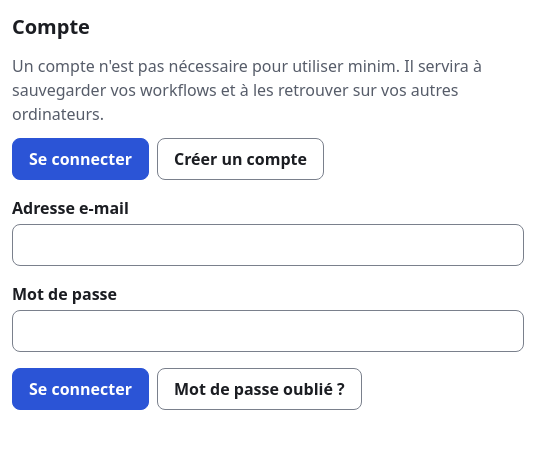
Test: AccountPanel › shows a translated error and keeps the form
The width and height of the screenshot is (544, 464).
Type "alice@example.com" into the field labelled "Adresse e-mail".
click(268, 245); type("alice@example.com")  # box left=12, top=224, right=524, bottom=266
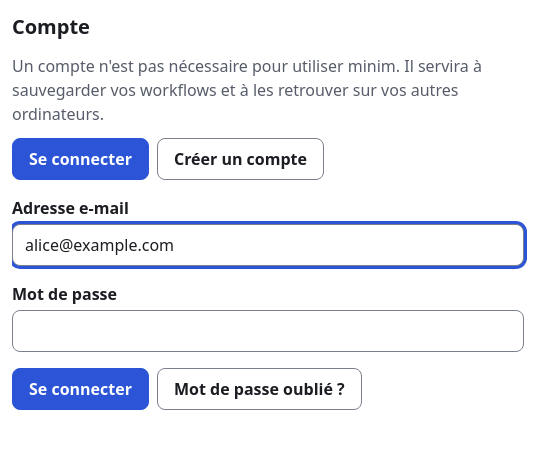
Type "faux" into the password field labelled "Mot de passe".
click(268, 331); type("faux")  # box left=12, top=310, right=524, bottom=352
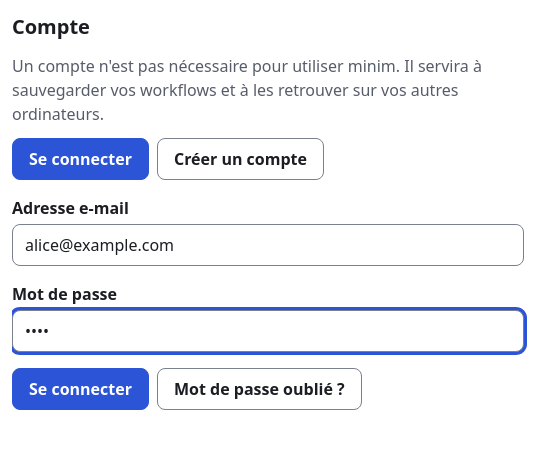
Click the button "Se connecter" below "Adresse e-mail".
click(80, 389)  # box left=12, top=368, right=149, bottom=410
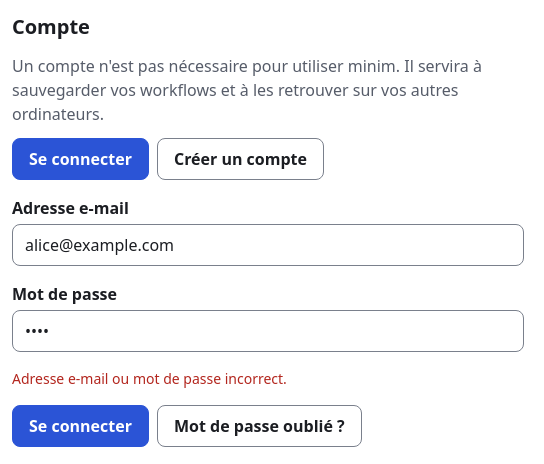
Expected: the message reads "Adresse e-mail ou mot de passe incorrect.", left=12, top=369, right=287, bottom=388
